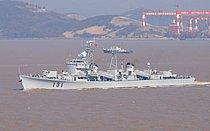MIL_Ship: (16, 51, 205, 90)
